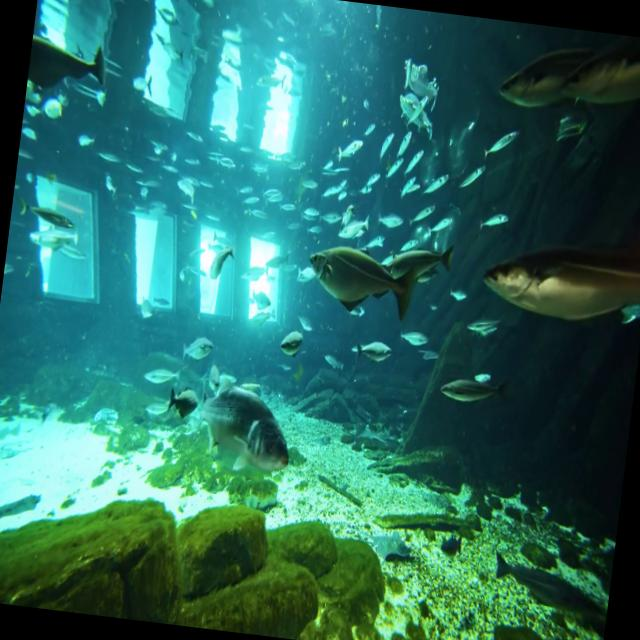fish: (478, 217, 640, 340), (173, 370, 300, 490), (298, 243, 426, 330), (24, 22, 118, 118), (495, 37, 599, 122), (553, 27, 640, 124), (433, 358, 512, 426), (382, 227, 462, 287), (13, 187, 81, 236), (266, 313, 316, 375), (484, 110, 528, 167), (452, 150, 498, 204), (202, 226, 238, 289), (162, 369, 204, 420), (344, 334, 394, 376), (458, 309, 506, 346), (177, 327, 217, 368), (396, 316, 432, 351)
